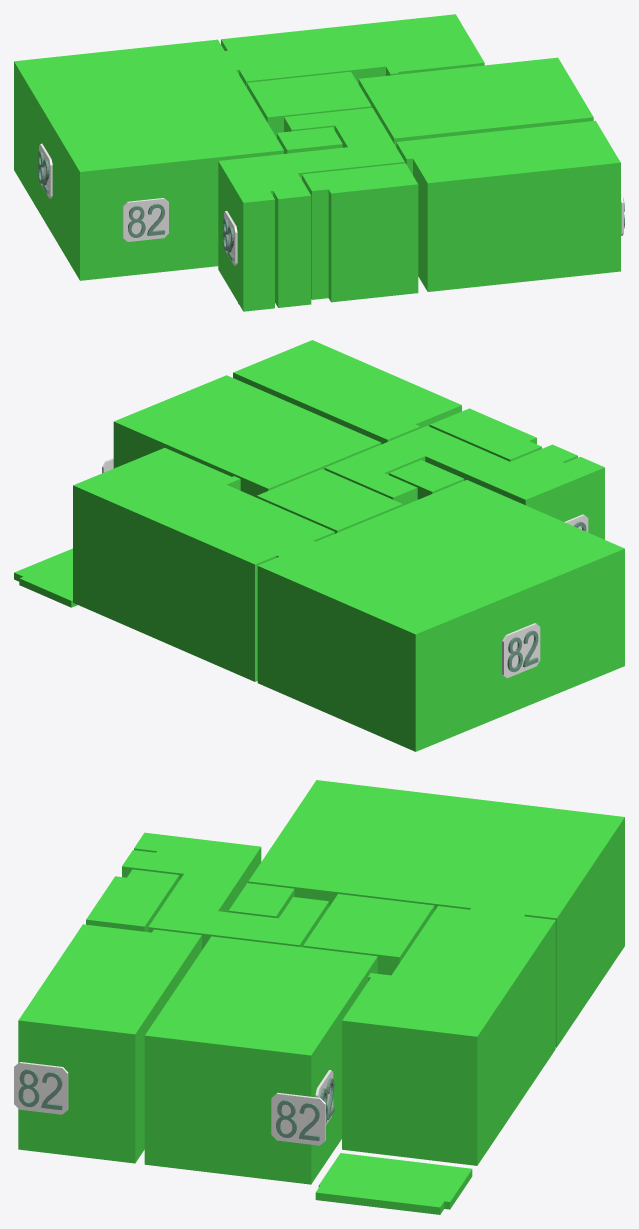
3 views of the same model, one above another, from view 1: azimuth 30°, elevation 25°; view 2: azimuth 150°, elevation 25°; view 3: azimuth 270°, elevation 25° (orthographic). The views are drawn at different scales.
Visible parts, largest first — view 1: g_7, g_1, g_3, g_2, g_0, g_6, g_4, g_23, g_5; view 2: g_7, g_6, g_0, g_3, g_1, g_4, g_2, g_8, g_5, g_17; view 3: g_7, g_6, g_0, g_1, g_3, g_8, g_4, g_2, g_11, g_14, g_5.
Boxes of the visible parts, bbox=[...] form: g_7: bbox=[14, 39, 283, 280]; g_1: bbox=[396, 120, 620, 291]; g_3: bbox=[218, 107, 404, 311]; g_2: bbox=[302, 163, 418, 302]; g_0: bbox=[358, 57, 593, 146]; g_6: bbox=[221, 14, 484, 87]; g_4: bbox=[247, 71, 371, 137]; g_23: bbox=[122, 198, 168, 241]; g_5: bbox=[277, 127, 342, 153]; g_7: bbox=[257, 480, 624, 751]; g_6: bbox=[73, 448, 334, 681]; g_0: bbox=[113, 375, 381, 497]; g_3: bbox=[324, 426, 604, 539]; g_1: bbox=[233, 340, 461, 444]; g_4: bbox=[256, 469, 402, 533]; g_2: bbox=[429, 408, 541, 461]; g_8: bbox=[14, 548, 77, 607]; g_5: bbox=[389, 460, 464, 499]; g_17: bbox=[502, 623, 540, 677]; g_7: bbox=[248, 780, 624, 1047]; g_6: bbox=[342, 906, 555, 1165]; g_0: bbox=[144, 936, 377, 1184]; g_1: bbox=[18, 924, 201, 1163]; g_3: bbox=[122, 832, 328, 949]; g_8: bbox=[315, 1153, 472, 1214]; g_4: bbox=[303, 894, 434, 975]; g_2: bbox=[86, 869, 179, 931]; g_11: bbox=[14, 1062, 68, 1114]; g_14: bbox=[271, 1092, 325, 1145]; g_5: bbox=[228, 883, 294, 918].
Size of the model in its own units: 12.73 by 2.74 by 11.04.
